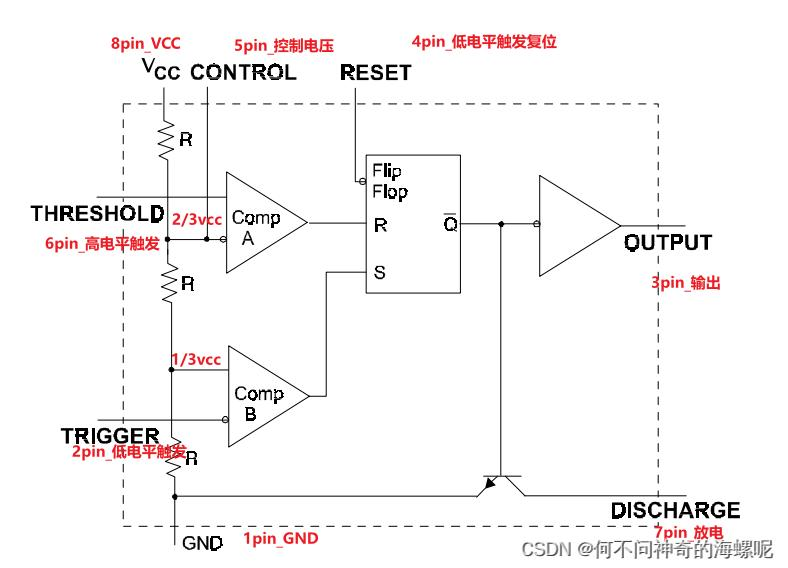bistable flip-flop: (367, 157, 461, 294)
comparator1: (228, 171, 309, 274), (229, 346, 311, 446)
discharge circuit: (470, 465, 533, 507)
output circuit: (540, 172, 622, 277)
reset circuit: (322, 56, 429, 103)
resistance: (162, 262, 179, 306), (164, 435, 182, 476), (158, 119, 175, 160)
